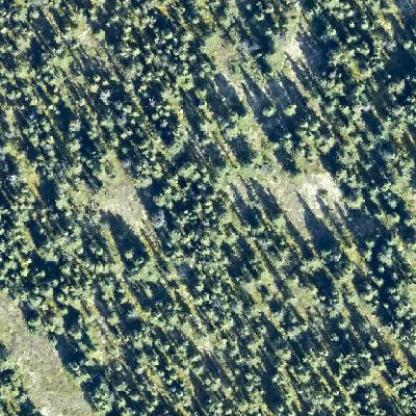tree-top: (285, 140, 320, 174), (296, 252, 324, 276), (235, 268, 258, 294), (320, 18, 342, 44), (282, 314, 305, 338), (172, 158, 198, 179), (144, 207, 166, 230), (342, 187, 365, 209), (259, 99, 278, 120), (84, 238, 104, 257), (270, 211, 290, 230), (383, 190, 400, 211), (280, 98, 296, 119), (65, 356, 83, 374), (332, 164, 350, 182), (120, 245, 140, 261), (23, 310, 43, 326), (66, 117, 83, 133)
